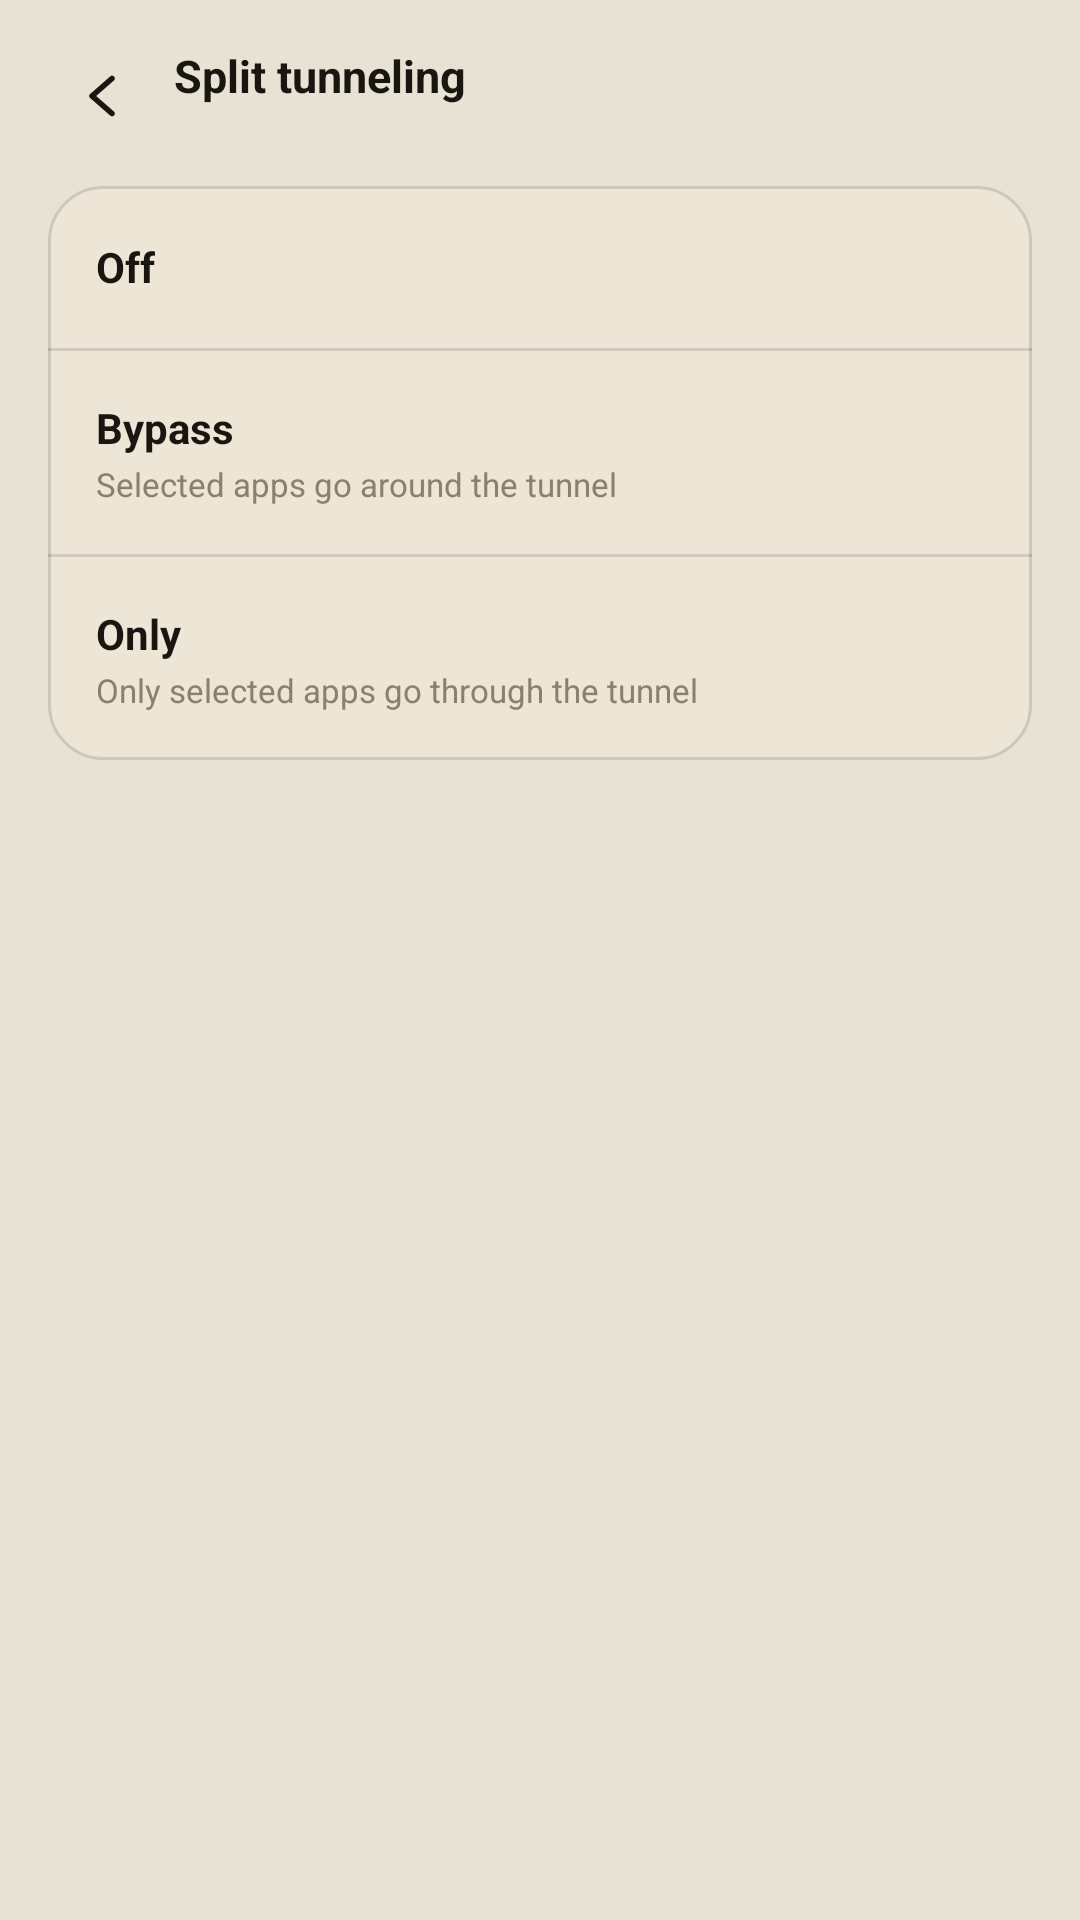

Icons on this 1080x1920 Android screen, each with the point to tap as (x,y):
Back: (102,96)
